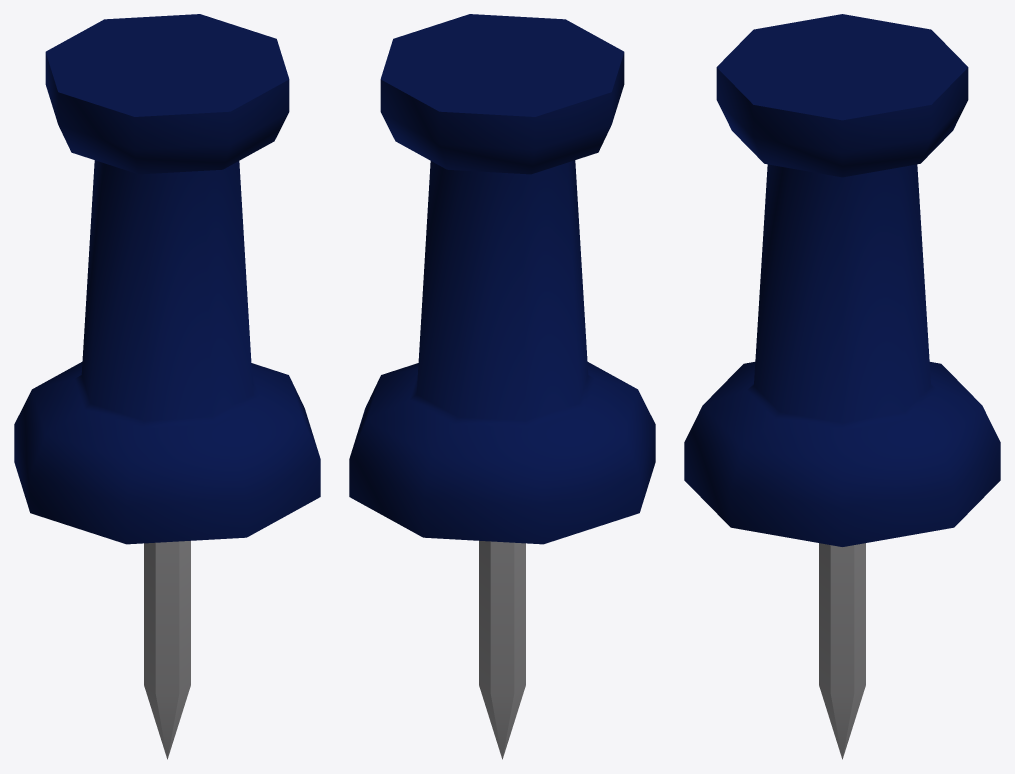
The model's file is pin.fbx.
3 views of the same model, side by side, from view 1: azimuth 30°, elevation 25°; view 2: azimuth 150°, elevation 25°; view 3: azimuth 270°, elevation 25° (orthographic).
Visible parts, largest first — view 1: Circle, Cylinder; view 2: Circle, Cylinder; view 3: Circle, Cylinder.
Boxes of the visible parts, x1=… form: Circle: x1=14, y1=14, x2=320, y2=544; Cylinder: x1=144, y1=541, x2=190, y2=759; Circle: x1=349, y1=14, x2=655, y2=544; Cylinder: x1=479, y1=541, x2=525, y2=759; Circle: x1=684, y1=14, x2=1000, y2=546; Cylinder: x1=819, y1=543, x2=865, y2=759.
Bounding box in the file's own units: 19.52 × 47.18 × 19.52.
